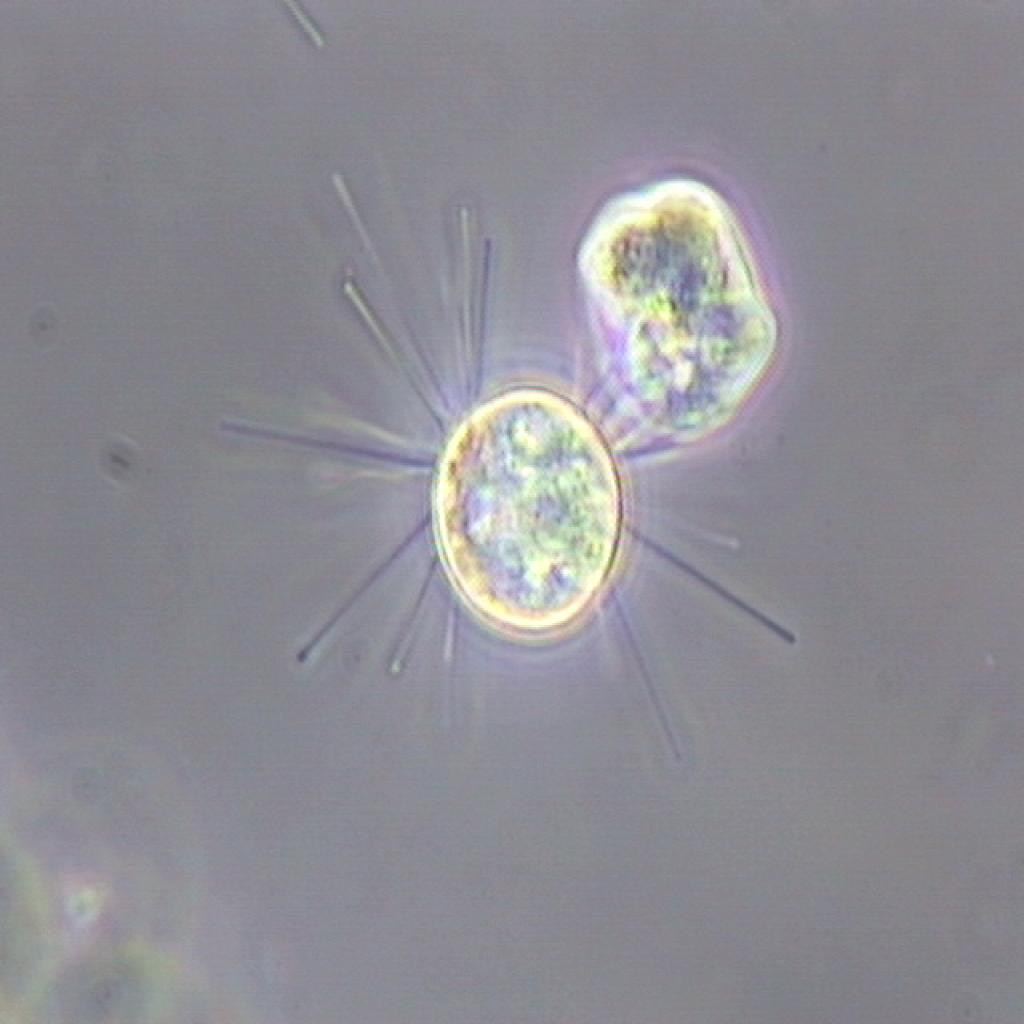Suctorida: (244, 261, 726, 810)
